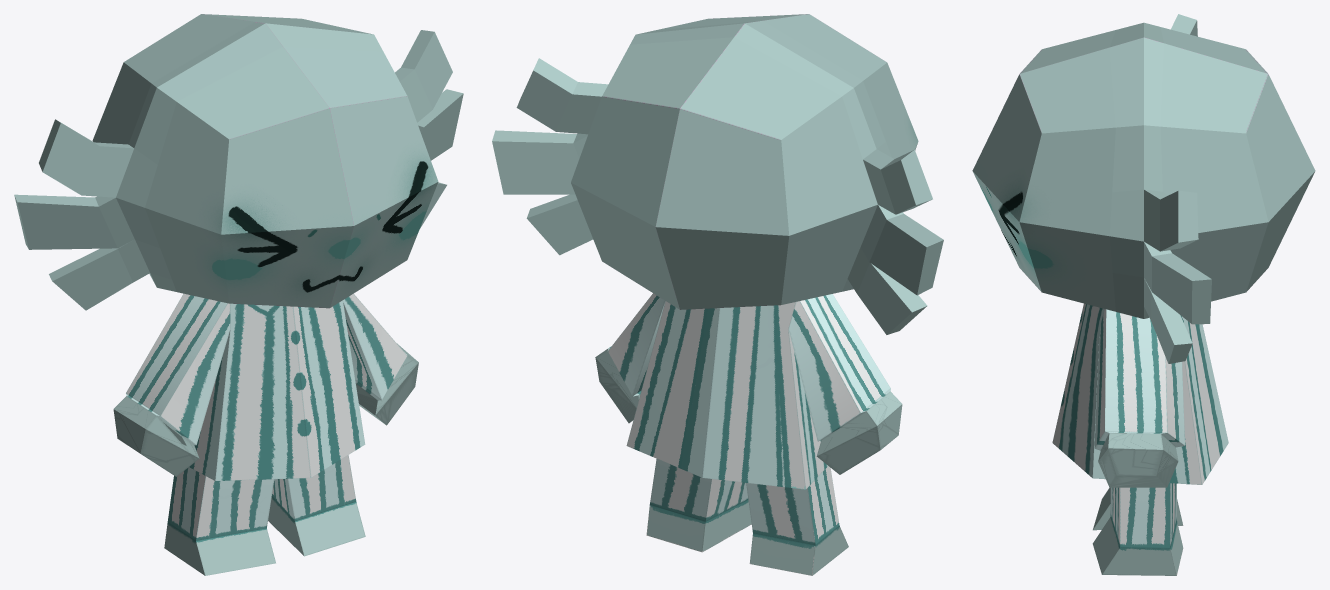
File: npc3.fbx
3 renders of one model, left to right at view 1: azimuth 30°, elevation 25°; view 2: azimuth 150°, elevation 25°; view 3: azimuth 270°, elevation 25°, orthographic. The views are drawn at different scales.
Visible parts, largest first — view 1: axel head.002, body.002; view 2: axel head.002, body.002; view 3: axel head.002, body.002.
Boxes of the visible parts, left/top/right/bottom form: axel head.002: left=14, top=14, right=463, bottom=310; body.002: left=113, top=293, right=418, bottom=575; axel head.002: left=492, top=14, right=943, bottom=334; body.002: left=595, top=293, right=902, bottom=575; axel head.002: left=972, top=14, right=1315, bottom=363; body.002: left=1052, top=303, right=1228, bottom=575.
Bounding box in the file's own units: 299 × 205 × 331.
Materials: 2 (2 with a texture image).
